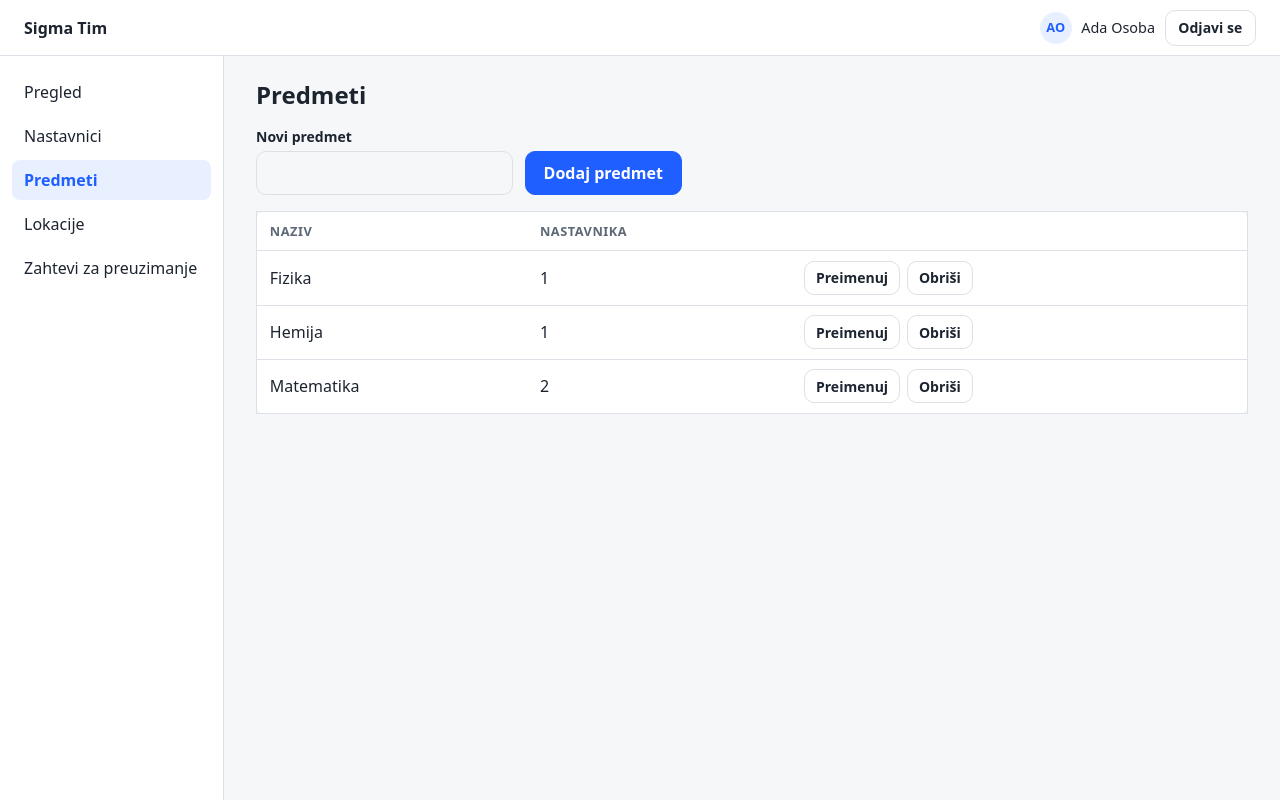
Scenario: subjects › catches a name that differs only in case, and keeps what was typed
Type "fizika" into the field labelled "Novi predmet". click: (384, 173)
box: top-left (256, 151), bottom-right (513, 195)
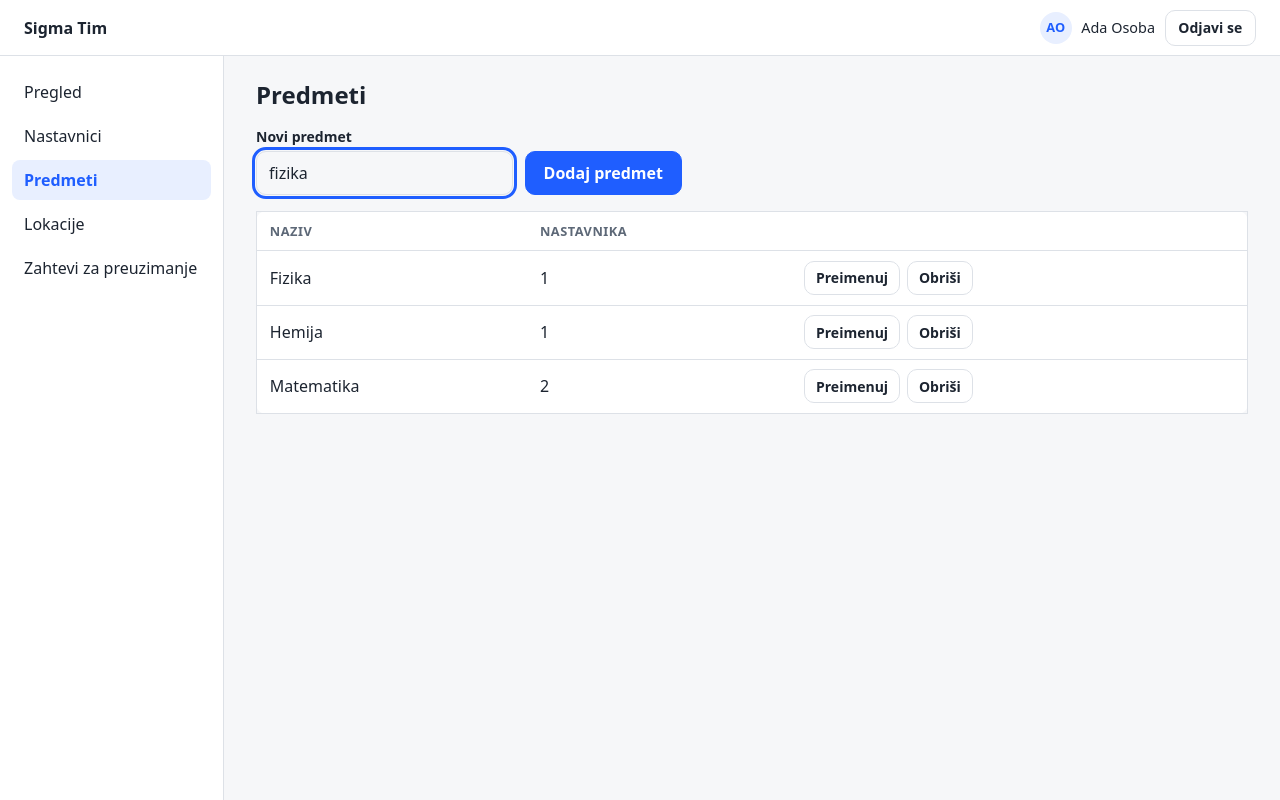
Click the button "Dodaj predmet". click: click(603, 173)
box: top-left (525, 151), bottom-right (682, 195)
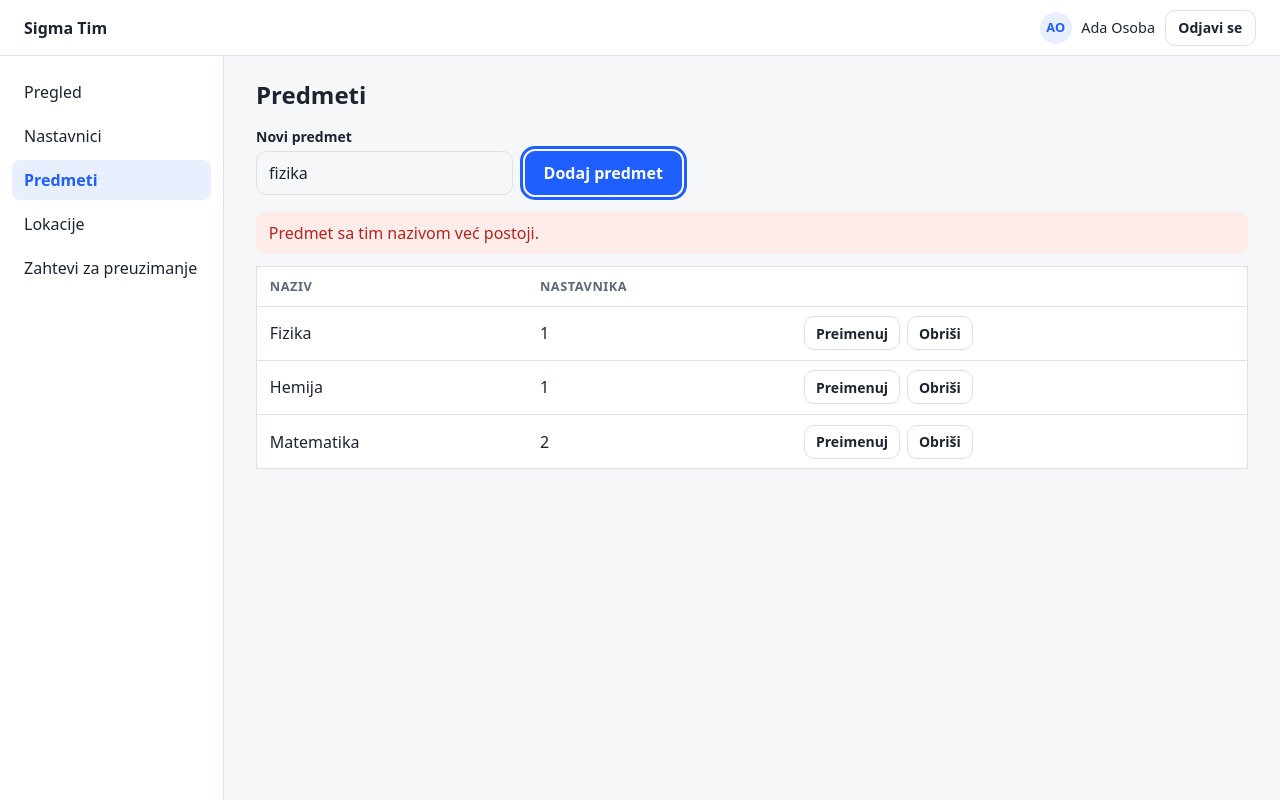
Now the message reads "Predmet sa tim nazivom već postoji.", box top-left (269, 222), bottom-right (539, 244)
